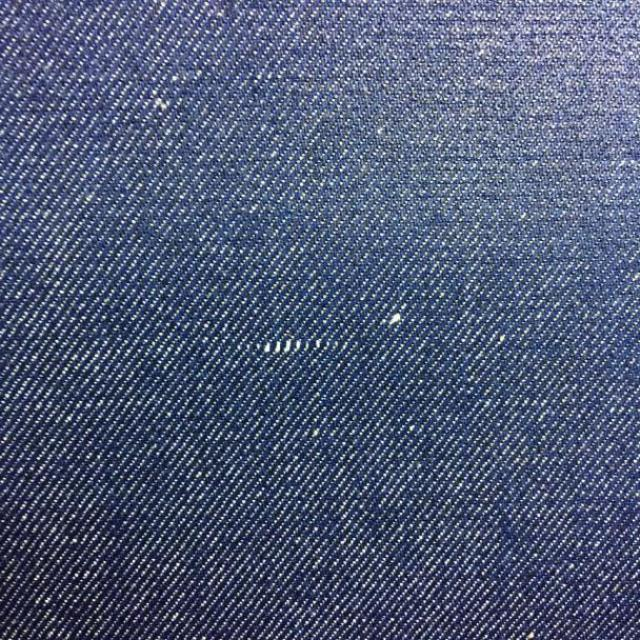Knot: (239, 338, 327, 357), (383, 312, 403, 327)
